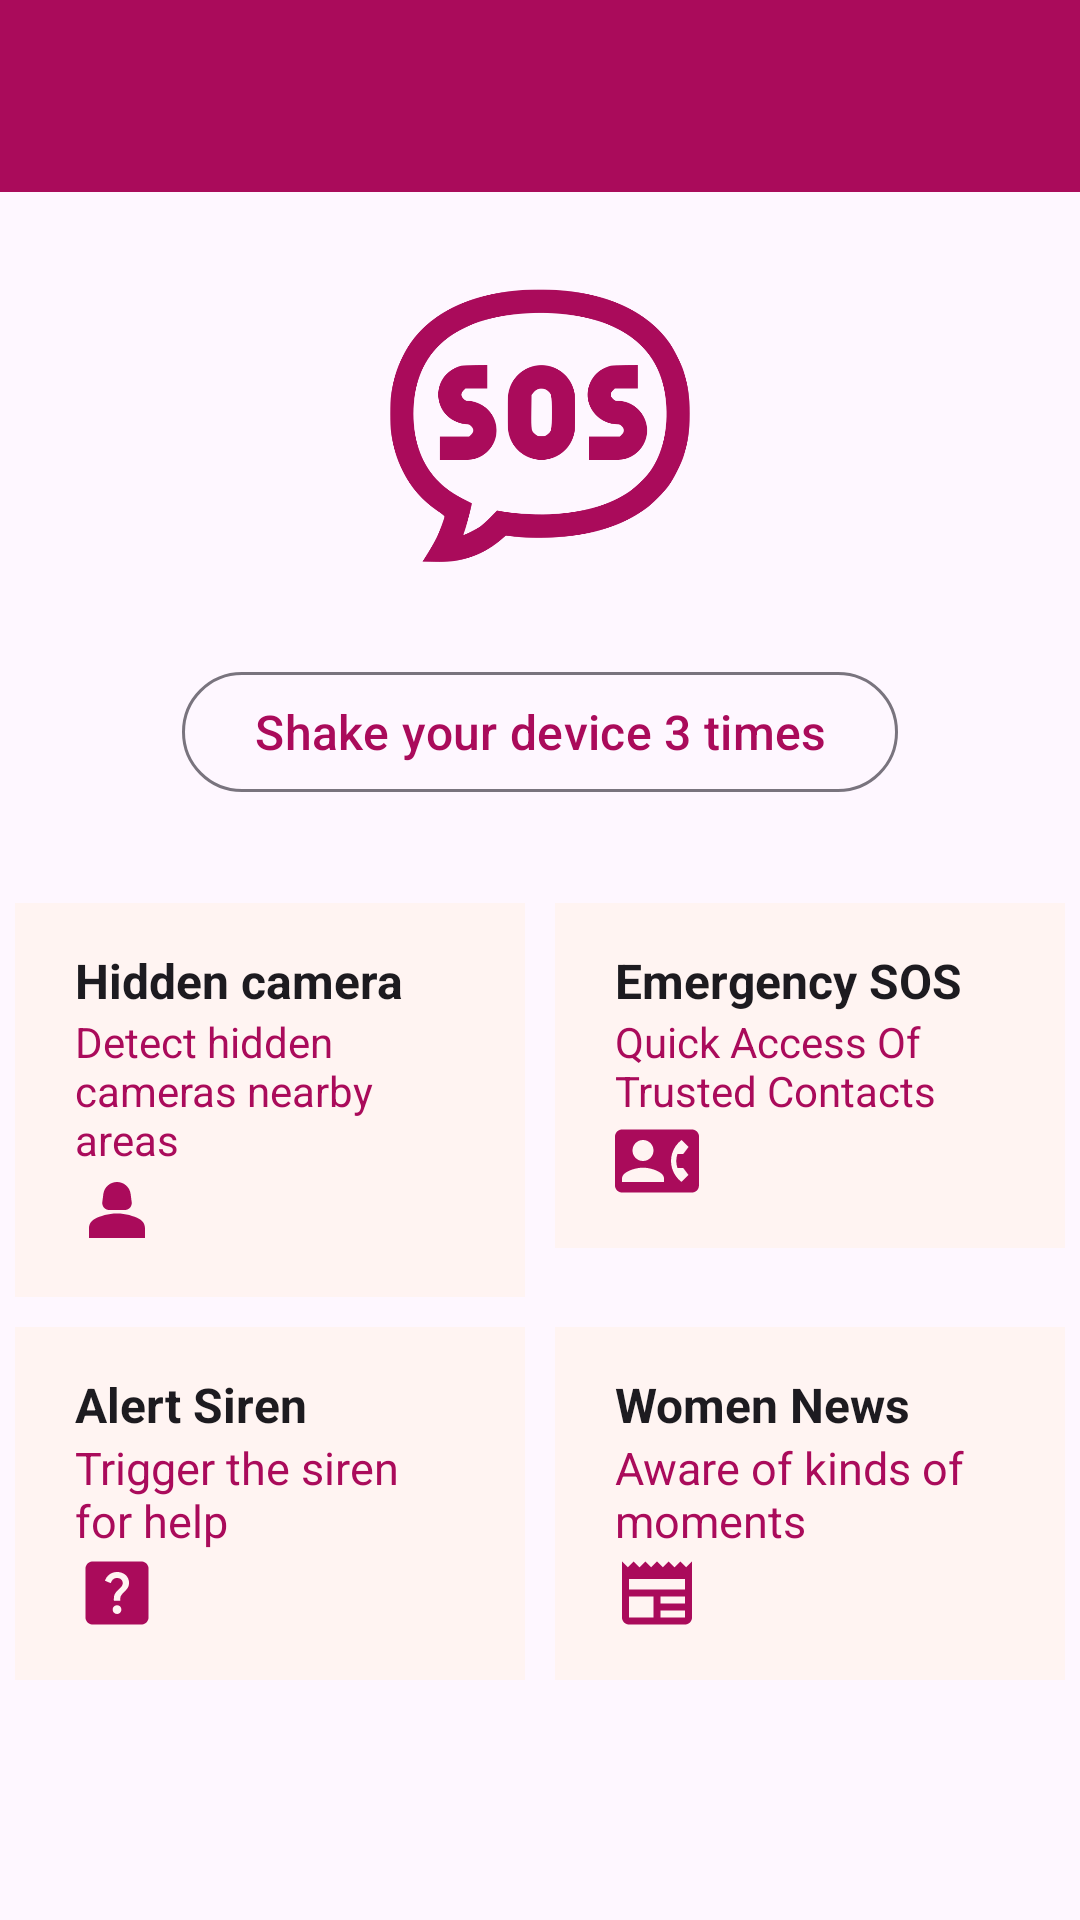

Icons on this 1080px x 1920px Android screen, each with its box as (x1, y1, x2, y2):
contact phone: (615, 1129, 699, 1193)
help center: (85, 1561, 149, 1625)
newspaper: (622, 1561, 692, 1625)
person: (89, 1182, 145, 1238)
